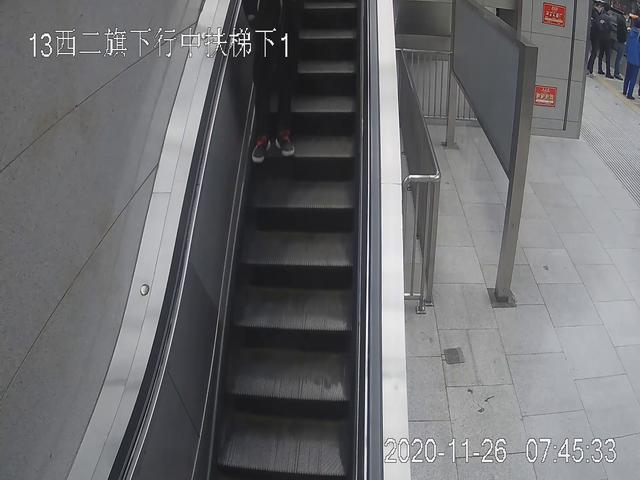person: (246, 3, 302, 164), (622, 20, 640, 102), (595, 9, 613, 77)
